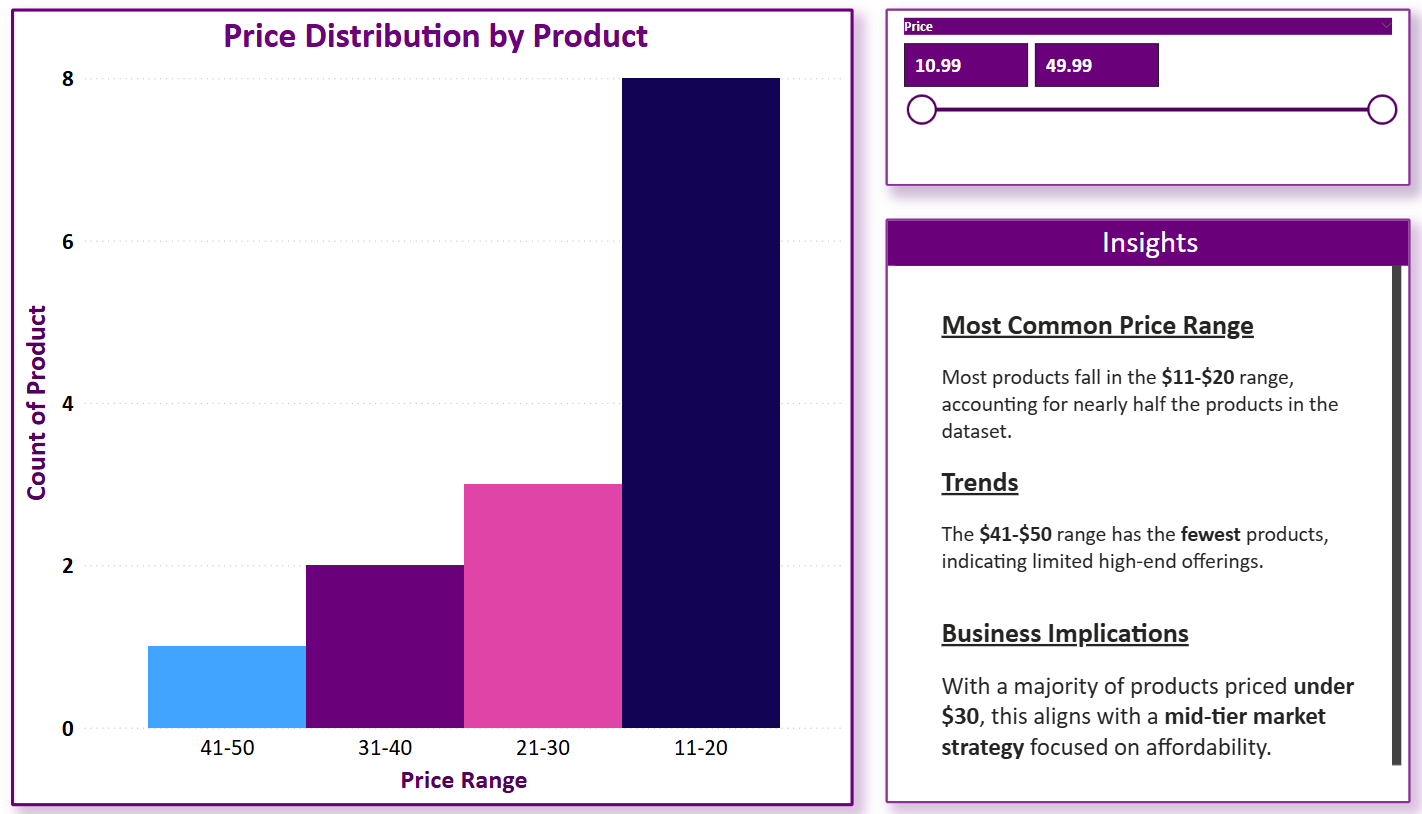

The page's visual inventory and layout, read from the dashboard file:
{"tool":"powerbi","page":{"name":"Price Distribution","canvas":[1280,720],"ordinal":11},"visuals":[{"type":"clusteredColumnChart","title":"Price Distribution by Product","fields":{"Category":["Products.Price Range"],"Y":["CountNonNull(Products.ProductID)"]},"box":[19.4,0,739.4,703.6],"z":0},{"type":"slicer","fields":{"Values":["Products.Price"]},"box":[775.8,16.7,462.1,153],"z":1000},{"type":"textbox","title":"Insights","box":[759.1,215.2,478.8,504.5],"z":2000}]}

Visuals, with their boxes in screenshot pixels (x1, y1, x2, y2), scaled from the page's 1280x720 canvas onto the 1422x814 screenshot:
"Price Distribution by Product" clusteredColumnChart: 22/0/843/795
slicer - Products.Price: 862/19/1375/192
"Insights" textbox: 843/243/1375/813
